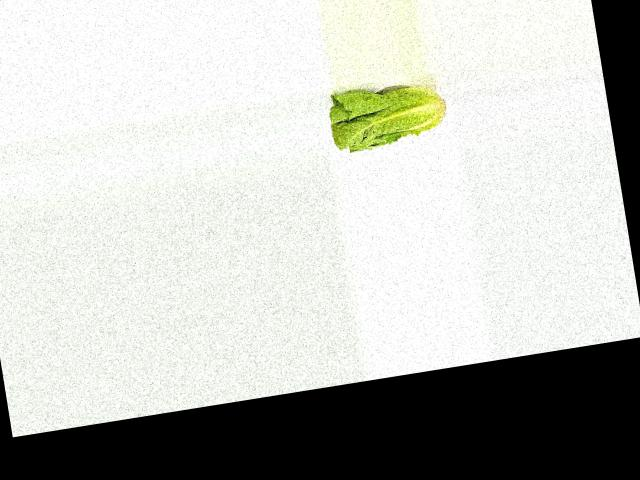lettuce: (325, 75, 452, 157)
